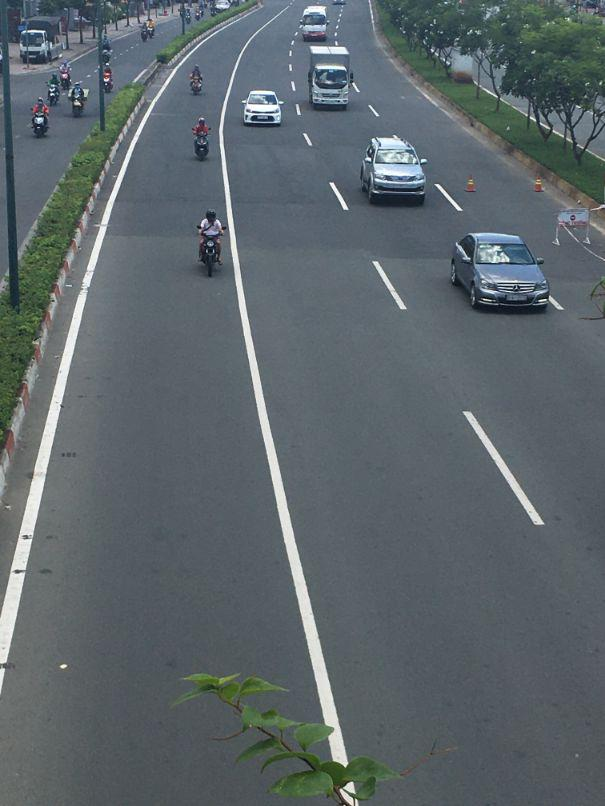car: (451, 233, 552, 312), (358, 136, 429, 204), (243, 90, 283, 125), (302, 7, 328, 44)
motorbike: (198, 220, 224, 274), (192, 117, 210, 156), (32, 107, 50, 135), (193, 132, 209, 161), (188, 67, 203, 94), (103, 66, 114, 93)
truck: (308, 43, 353, 109), (22, 18, 61, 63)
